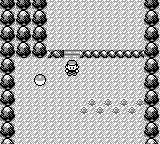main: (65, 61, 79, 76)
no-caminable: (0, 0, 48, 142), (144, 0, 160, 144)
poke-ball: (34, 75, 46, 85)
salto: (82, 50, 143, 58), (48, 50, 64, 58)
